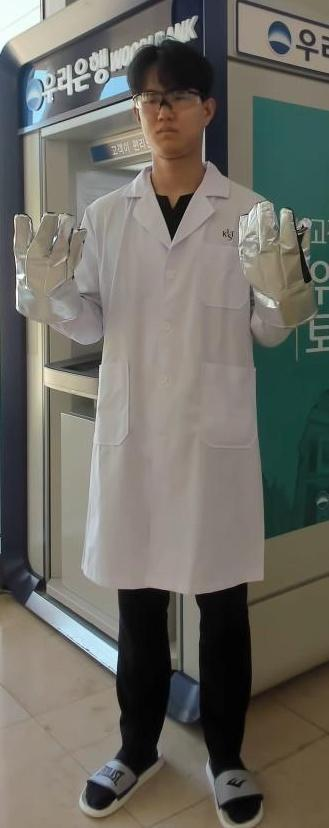lab_coat: (89, 180, 240, 583)
